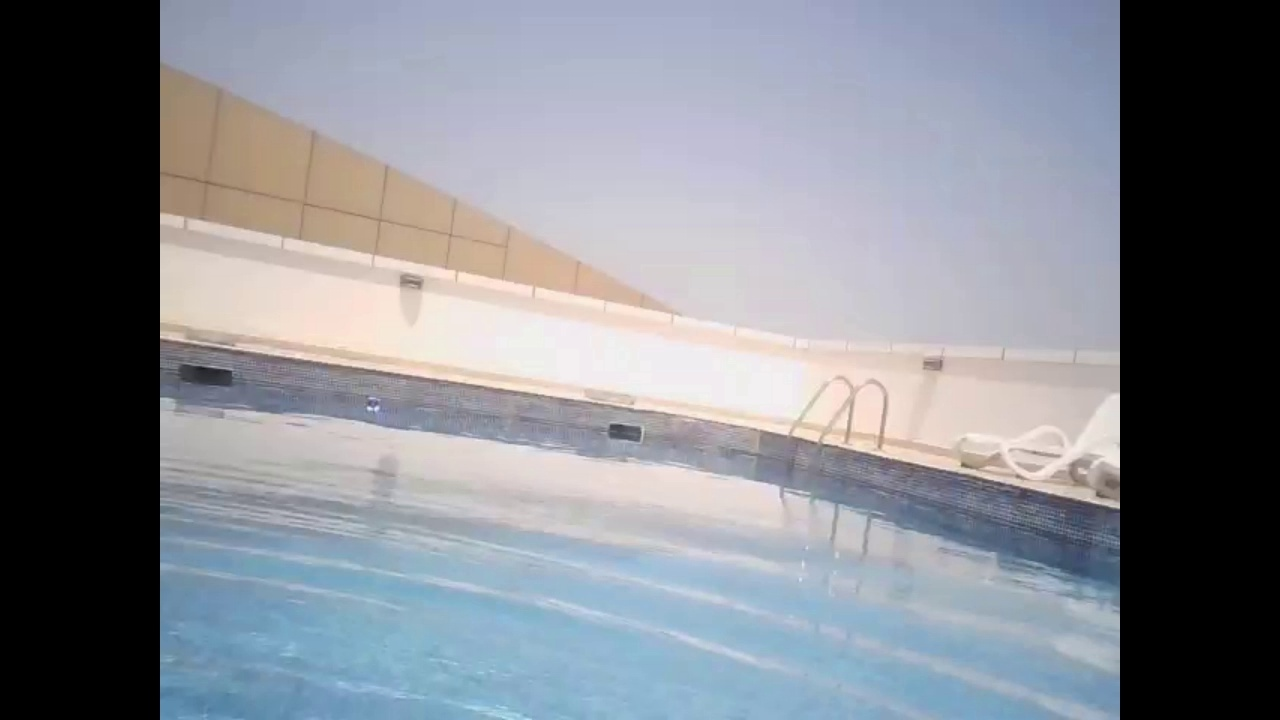debris: (362, 395, 381, 415)
